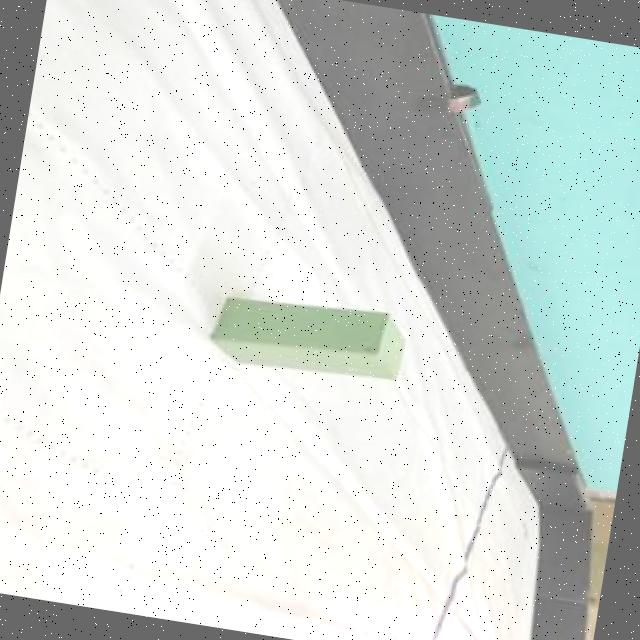greenbox: (200, 285, 412, 390)
